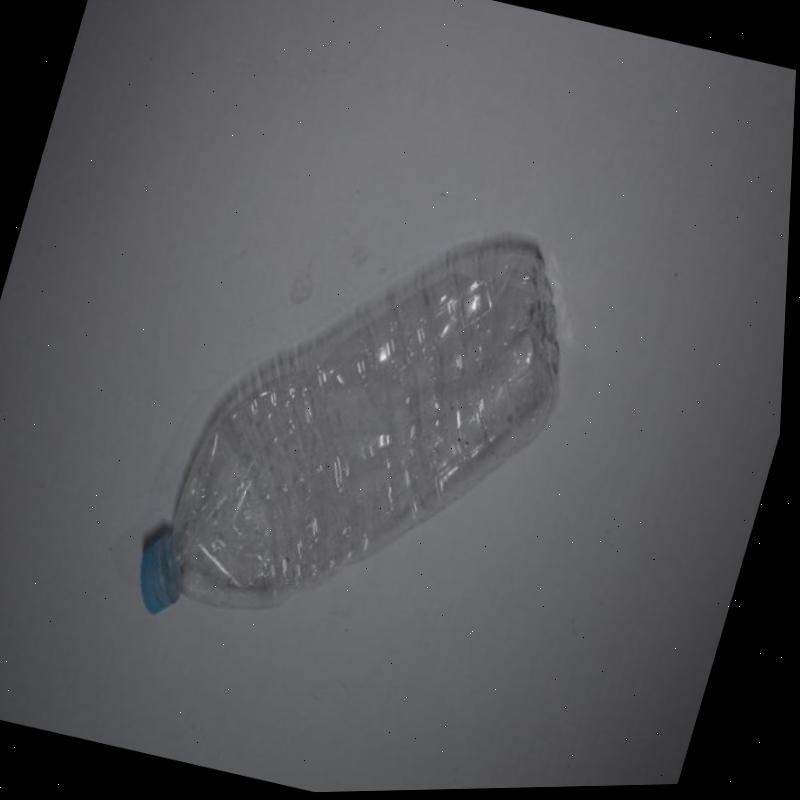botella: (126, 171, 605, 696)
